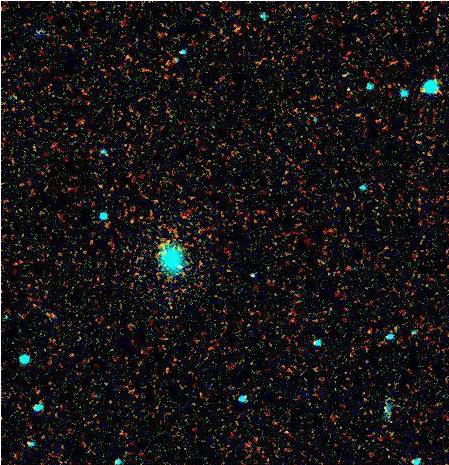star: (162, 252, 192, 282)
